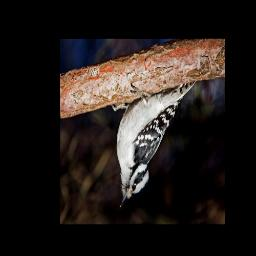Woodpecker: (110, 81, 196, 210)
